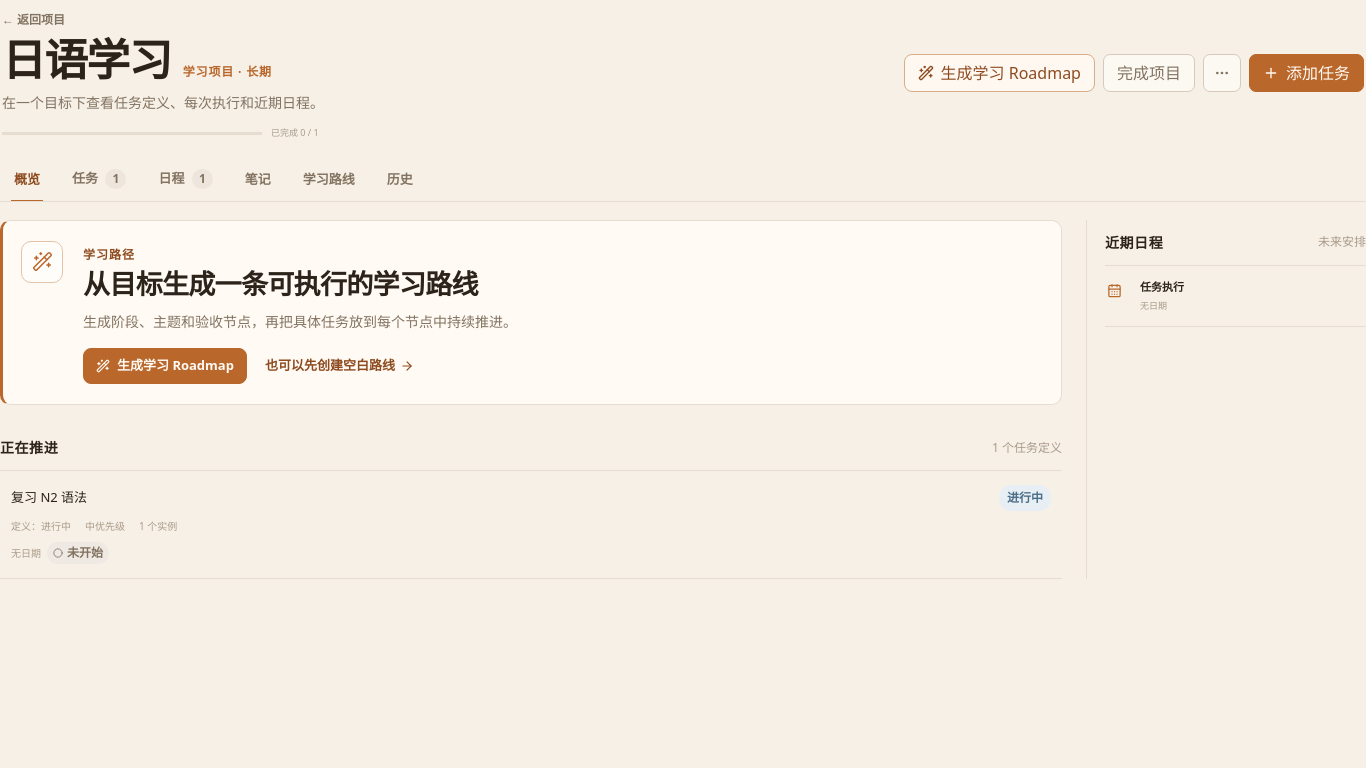
Test: Project detail v2 › keeps generation guidance and explains an AI timeout in Chinese
Click the button "生成学习 Roadmap" in the row of "长期": {"x": 999, "y": 73} [904,54,1095,92]
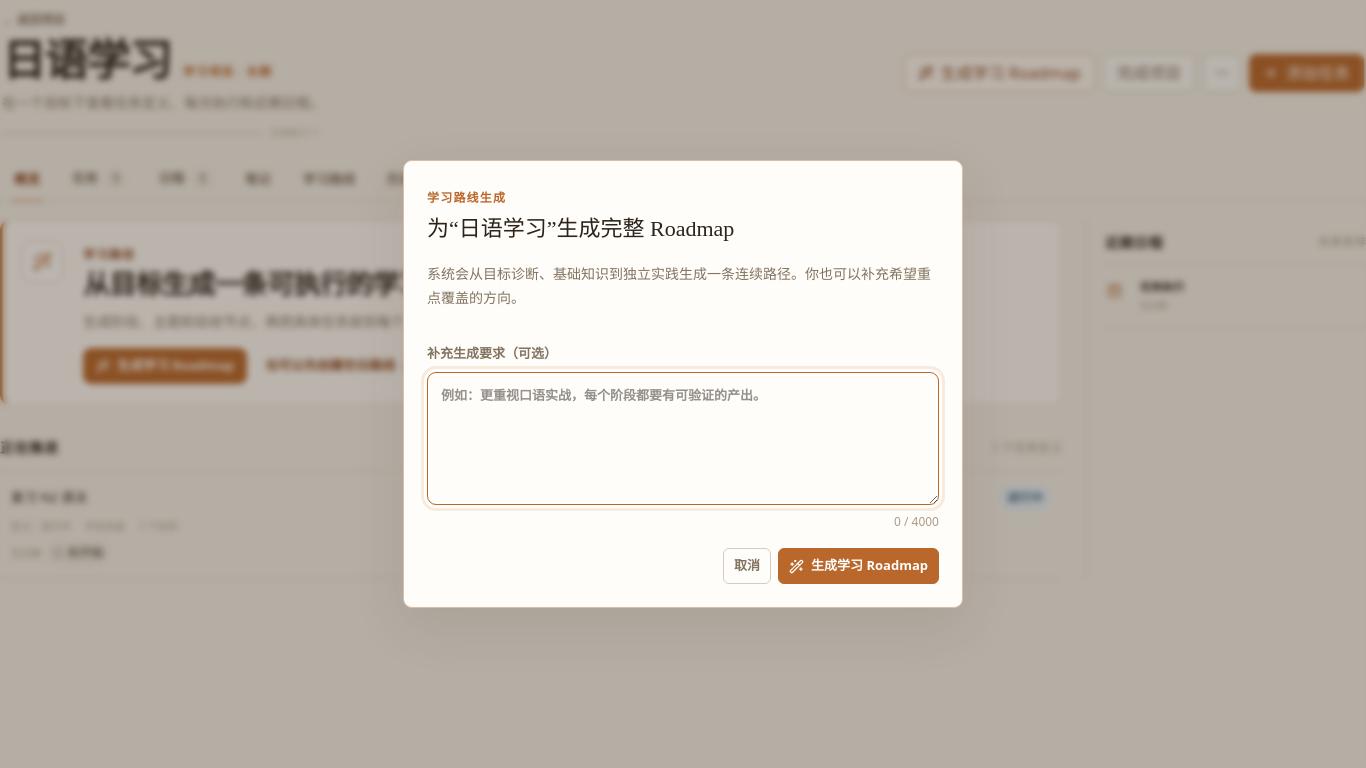
In the text box labelled "补充生成要求": {"x": 683, "y": 439} [427,372,939,505], type "优先覆盖训练 Infra"
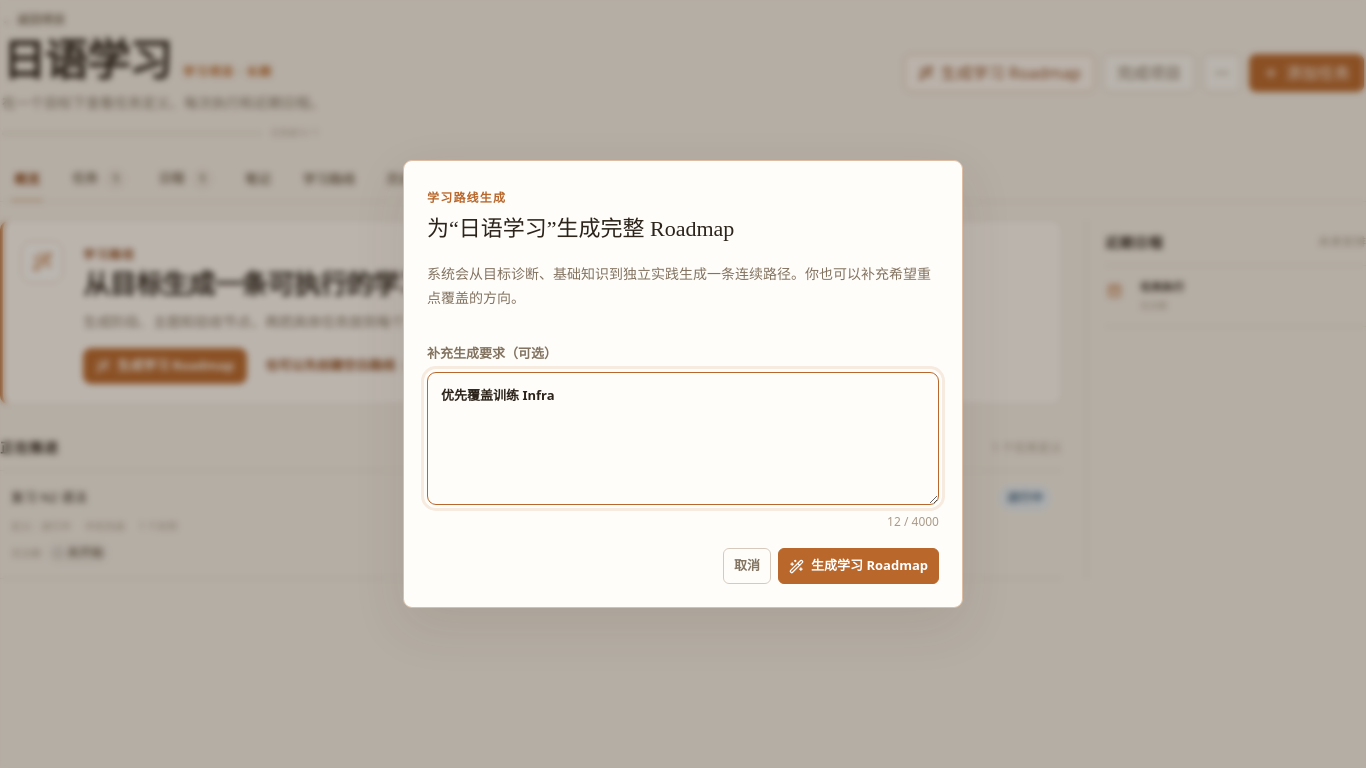
Click the button "生成学习 Roadmap": {"x": 859, "y": 566} [778,548,939,584]
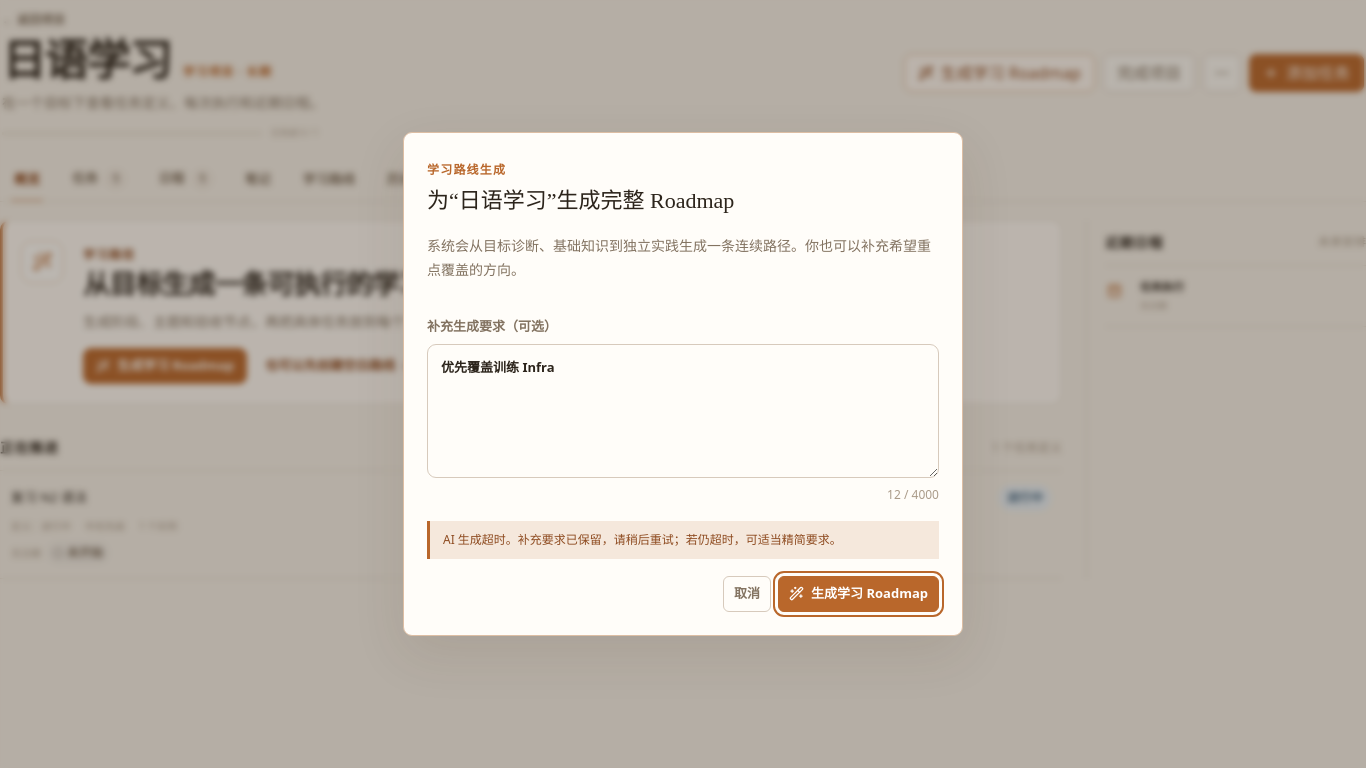
expect the message reads "AI 生成超时。补充要求已保留，请稍后重试；若仍超时，可适当精简要求。": met, box [443,531,842,548]
